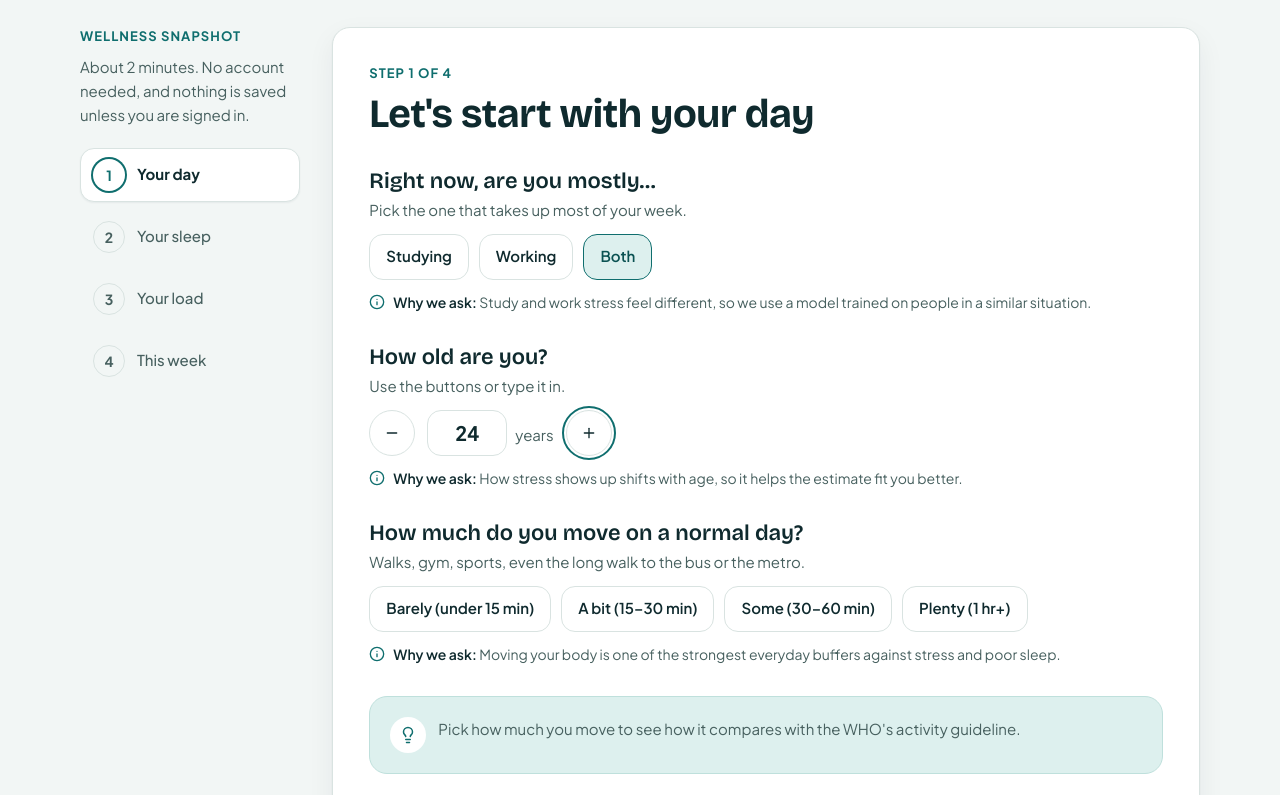
Test case: questionnaire › live sleep feedback follows the chip and the rested score
Earlier steps of the test are not shown.
Click the button "A bit (15–30 min)". click: [638, 608]
box: [561,586,714,632]
(page scrolled)
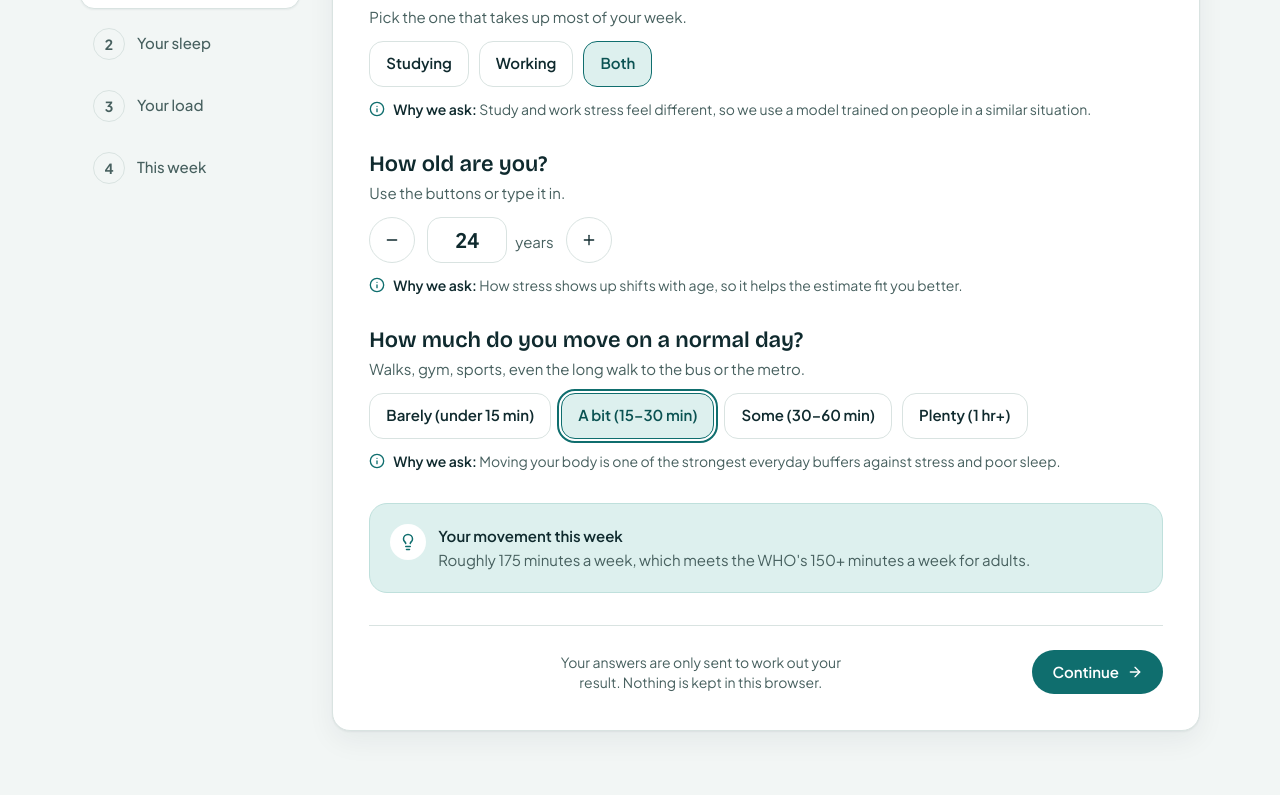
Click the button "Continue". click: [1098, 672]
box: [1032,650,1163,694]
(page scrolled)
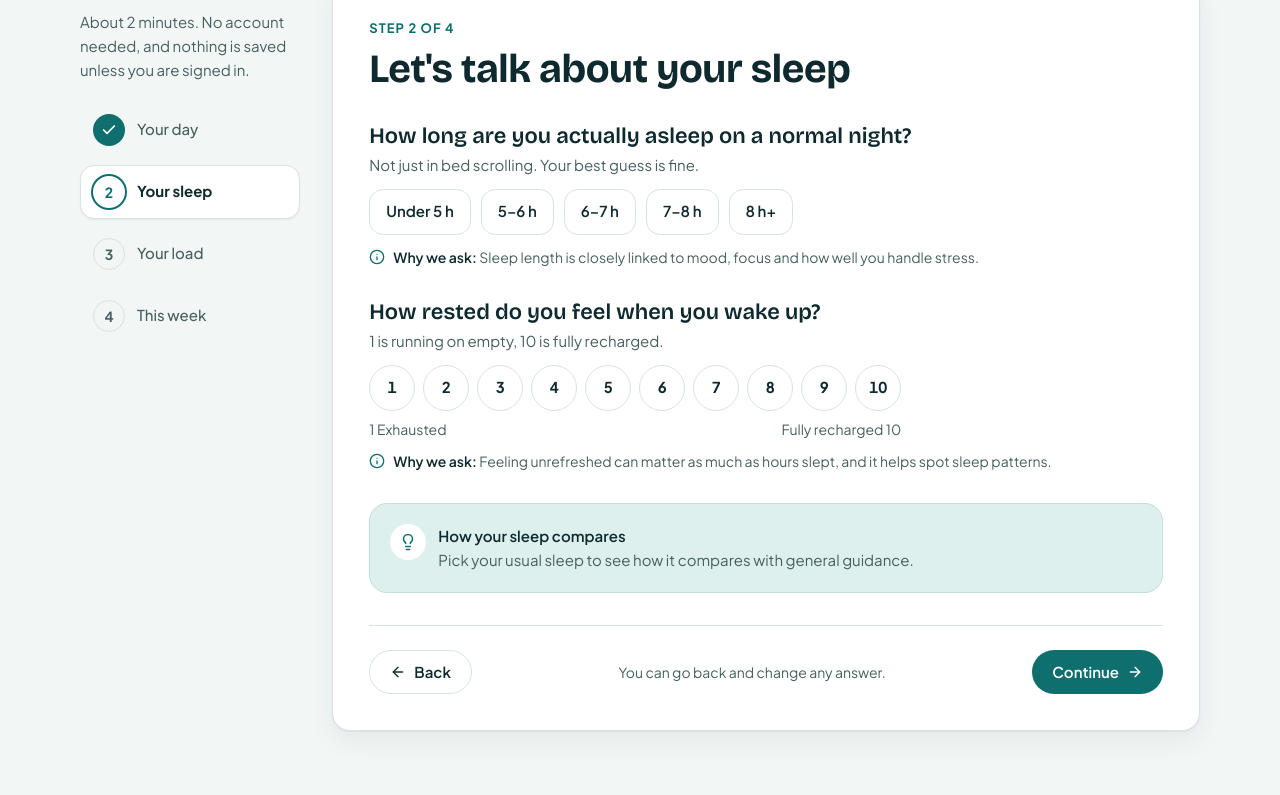
Click the button "Under 5 h". click: [420, 212]
box: [369,188,471,234]
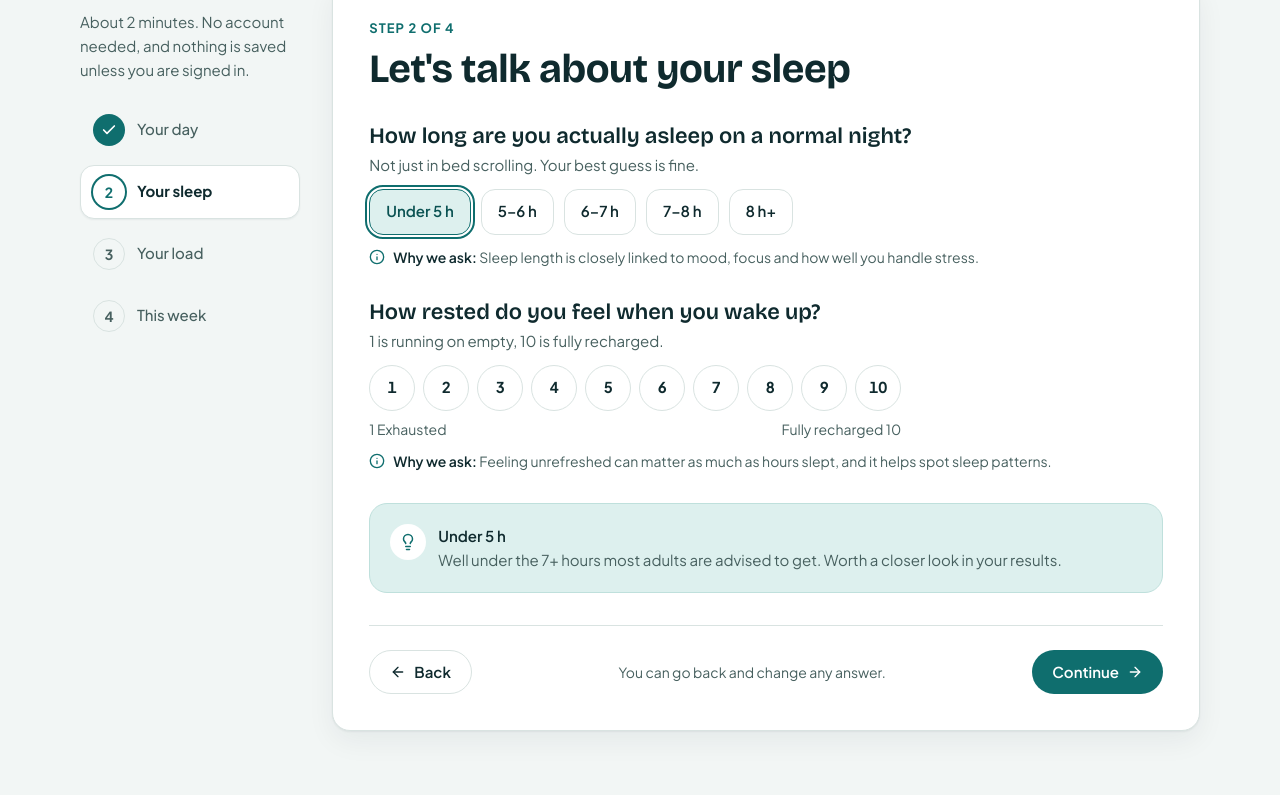
Expected: the text "Well under the 7+ hours most adults are advised to get" is shown, [438,550,1062,569]
Click the button "6–7 h". click: [600, 212]
box: [564,188,636,234]
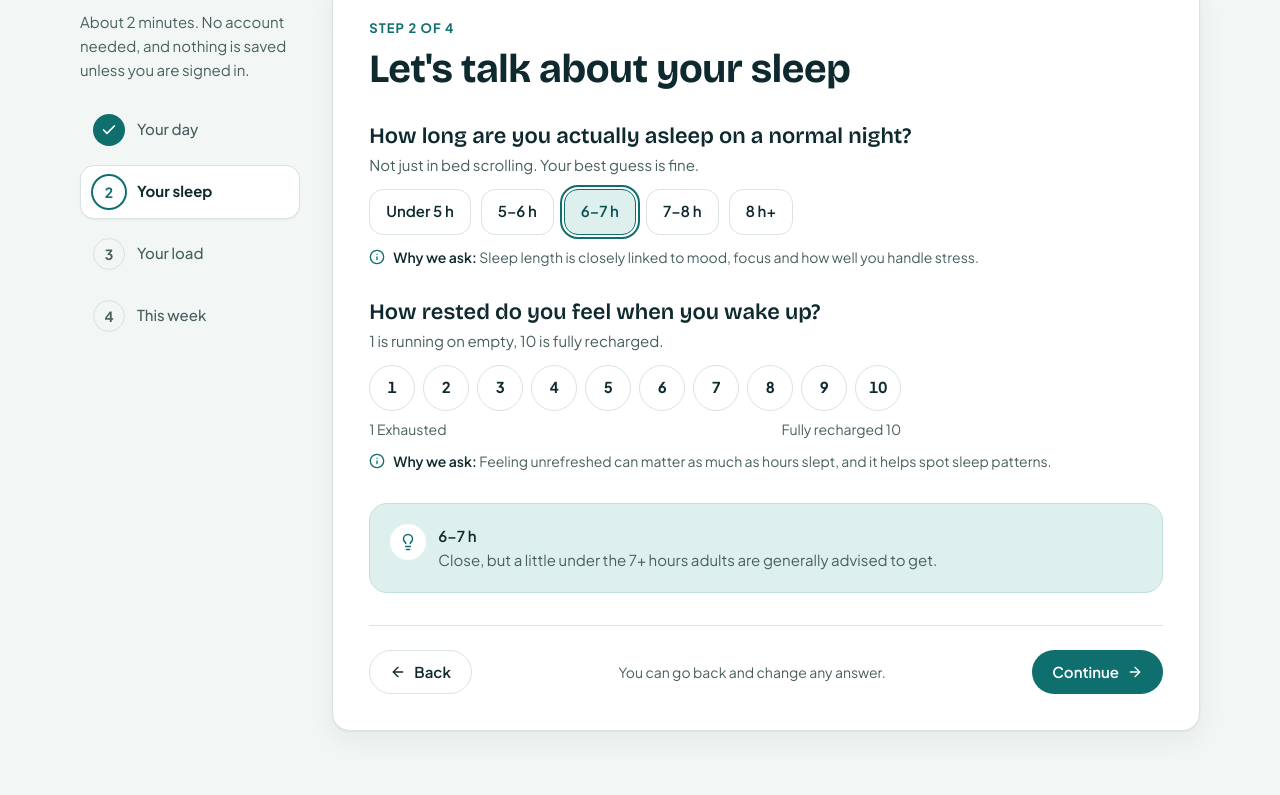
Click the button named "5 out of 10". click: [608, 388]
box: [585,364,631,410]
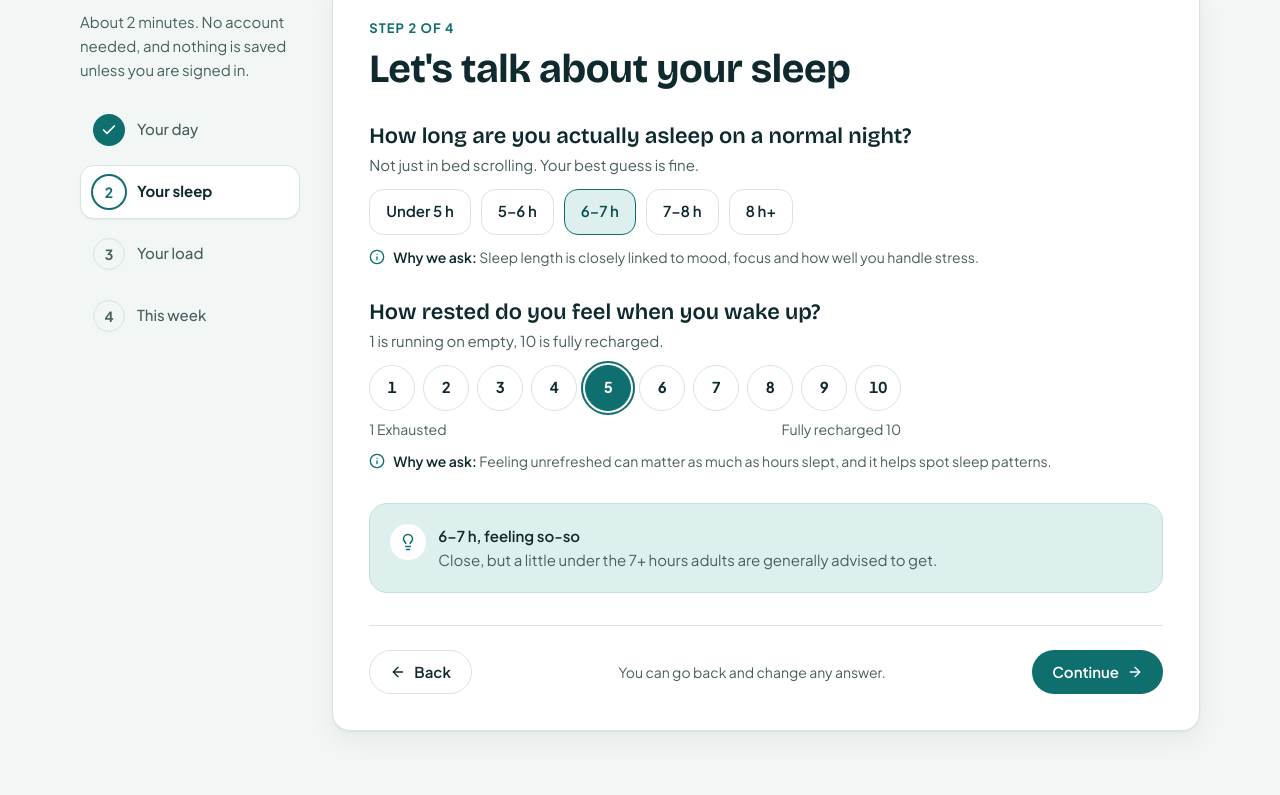
Expected: the text "Close, but a little under the 7+ hours adults are generally advised to get." is shown, [438,548,937,572]
Expected: the text "6–7 h, feeling so-so" is shown, [438,526,580,544]
Click the button "8 h+". click: [761, 212]
box: [728,188,793,234]
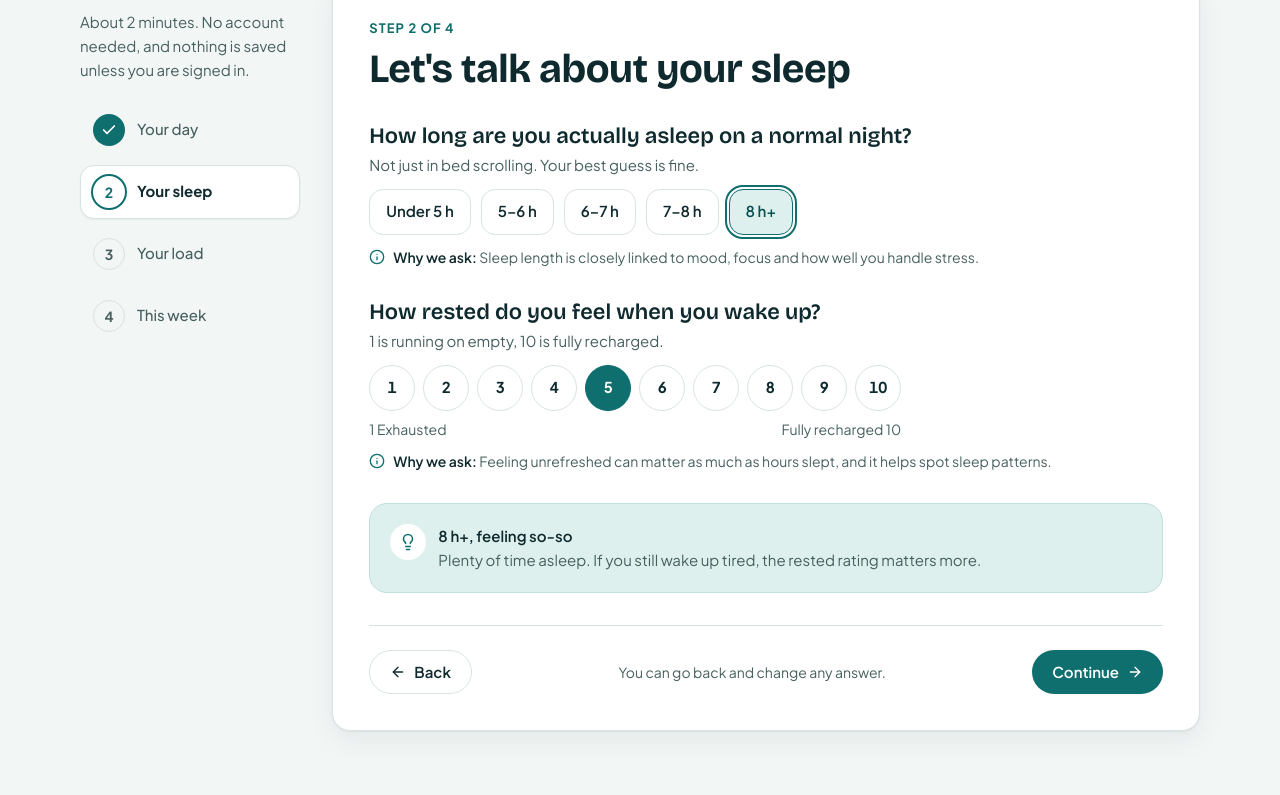
Expected: the text "Plenty of time asleep" is shown, [438,550,981,569]
